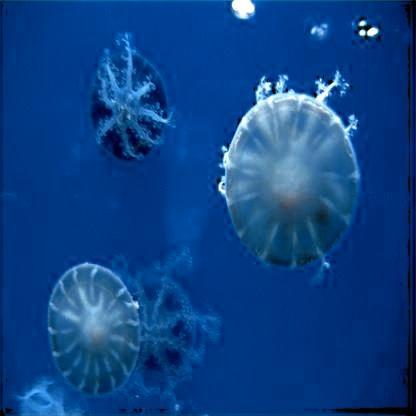Fish: (218, 74, 360, 272), (115, 246, 219, 401), (46, 262, 144, 394), (91, 36, 180, 160), (17, 382, 87, 414)
